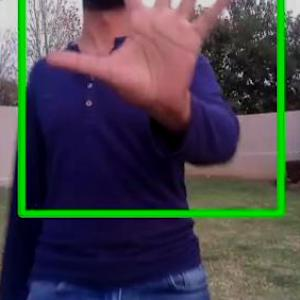follow_hand: (40, 0, 244, 118)
